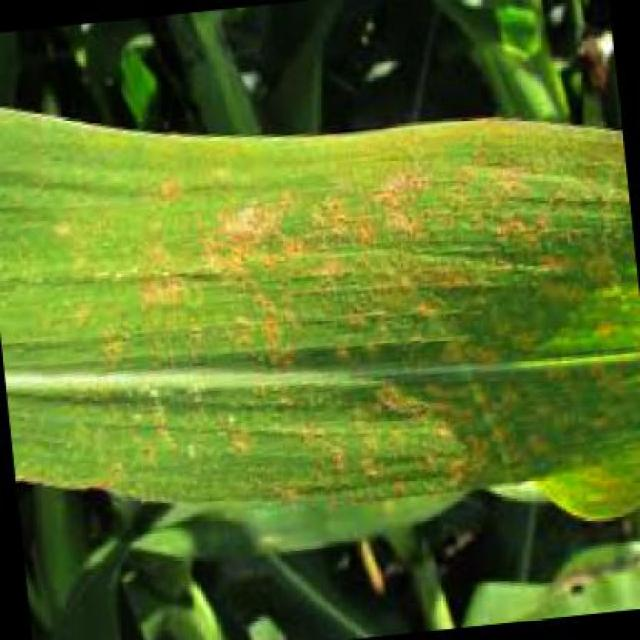Corn_Rust: (31, 91, 618, 534)
